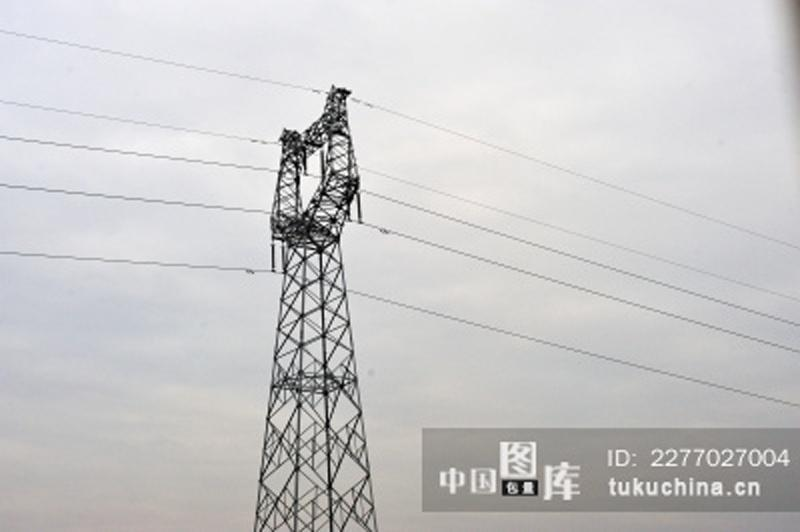power_tower: (253, 80, 383, 529)
